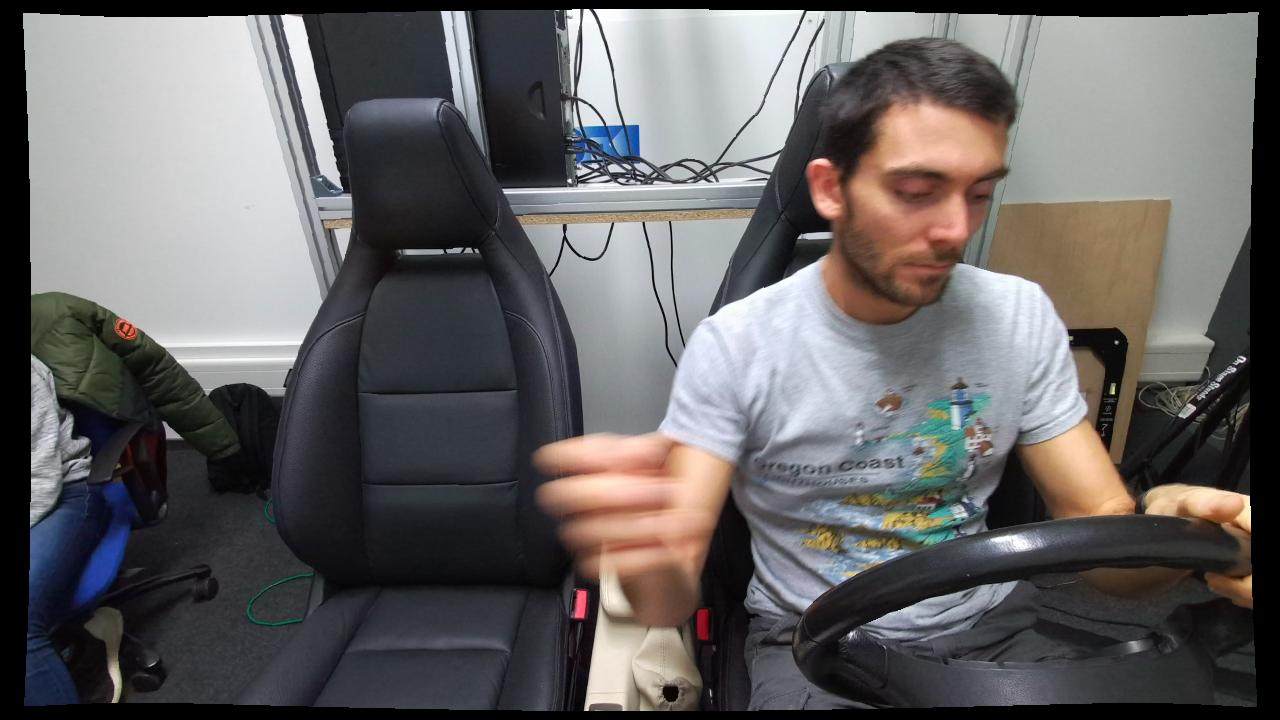Distracted: (516, 37, 1156, 715)
